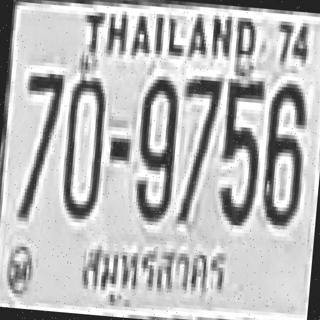N00: (58, 72, 107, 216)
N05: (214, 74, 263, 222)
N06: (260, 78, 308, 223)
N07: (14, 68, 63, 220), (173, 71, 222, 223)
N09: (132, 71, 180, 219)
P58: (77, 233, 230, 306)
